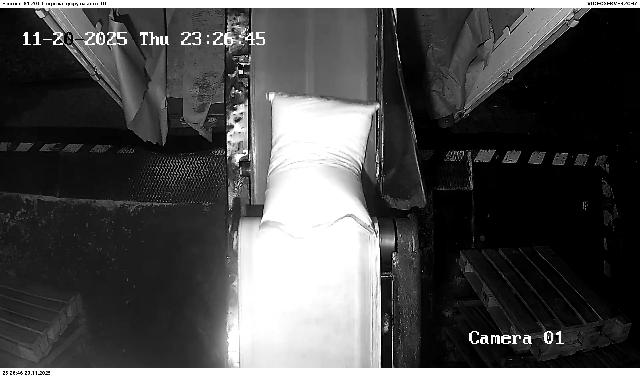bag: (259, 91, 380, 236)
